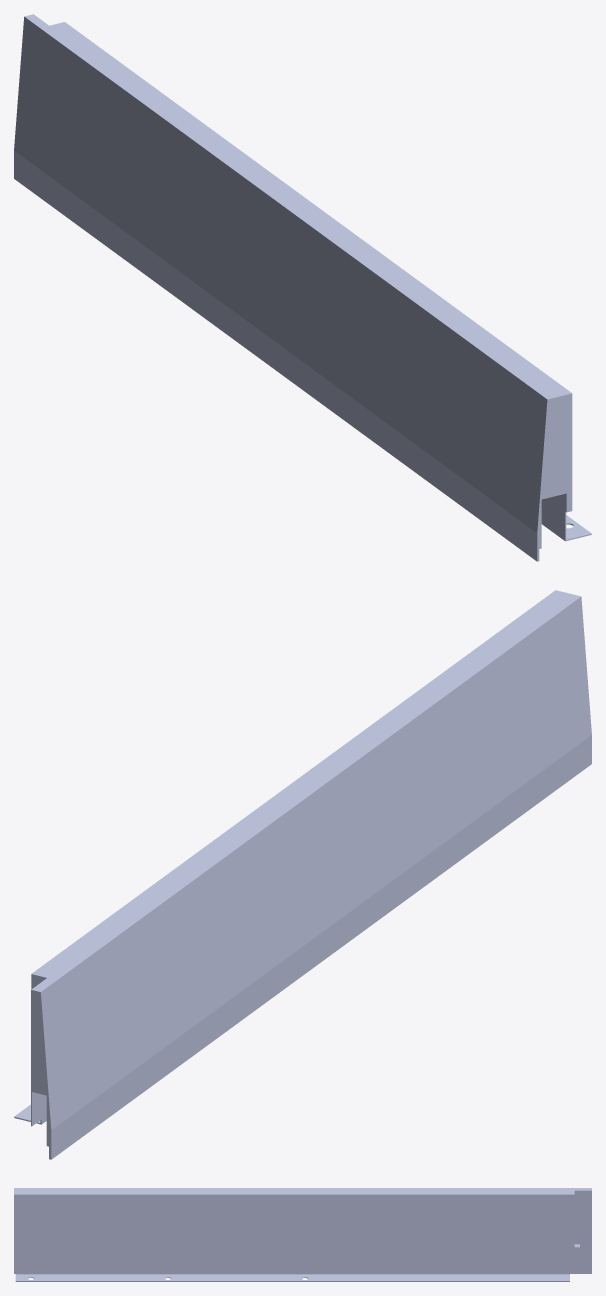
Rendered from mv-kava-M550-p.glb.
3 renders of one model, top to bottom at view 1: azimuth 30°, elevation 25°; view 2: azimuth 150°, elevation 25°; view 3: azimuth 270°, elevation 25°, orthographic. The views are drawn at different scales.
Parts seen in each view (by area): view 1: 42168975; view 2: 42168975; view 3: 42168975.
Part boxes in pixels (x1,y1,x2,y2): 42168975: (14, 14, 591, 561); 42168975: (14, 590, 591, 1159); 42168975: (14, 1188, 591, 1281).
Size of the model in its own units: 0.0335 by 0.091 by 0.5402.
